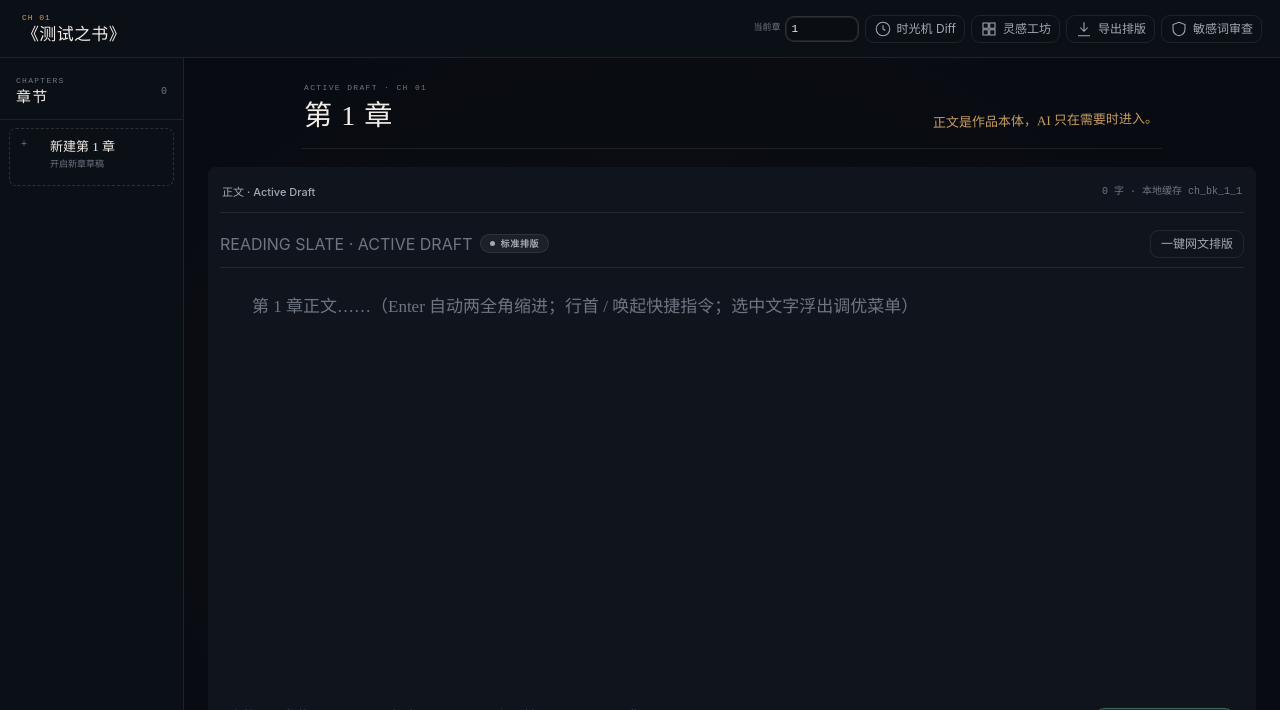
Test: WorkbenchView › 从工作台打开导出时传入当前作品，可选择导出全本
What coordinates should you click on to do the following:
click the button "导出排版"
I would click on:
 (1110, 29)
Its box is 1066,15 -> 1155,43.
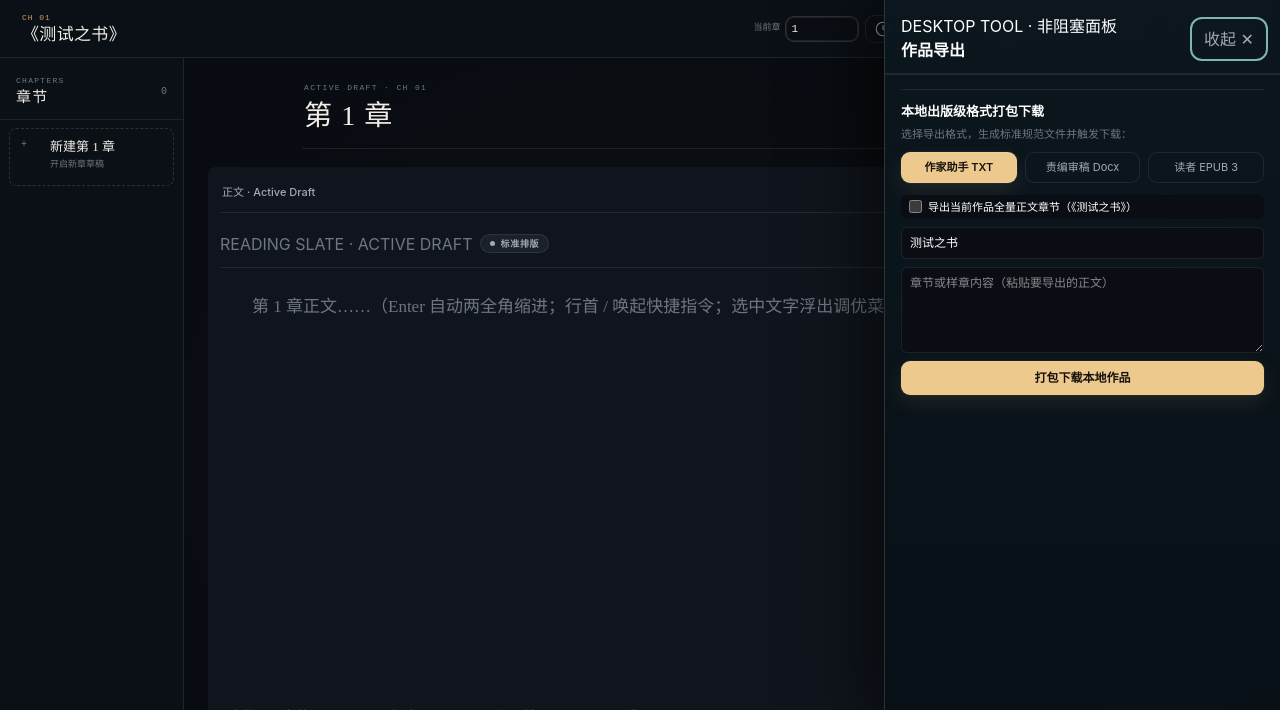
expect the checkbox labelled "导出当前作品全量正文章节（《测试之书》）" is shown: met, box 909,200 -> 922,213
expect the field with placeholder "作品名称" holds "测试之书": met, box 901,227 -> 1264,259
